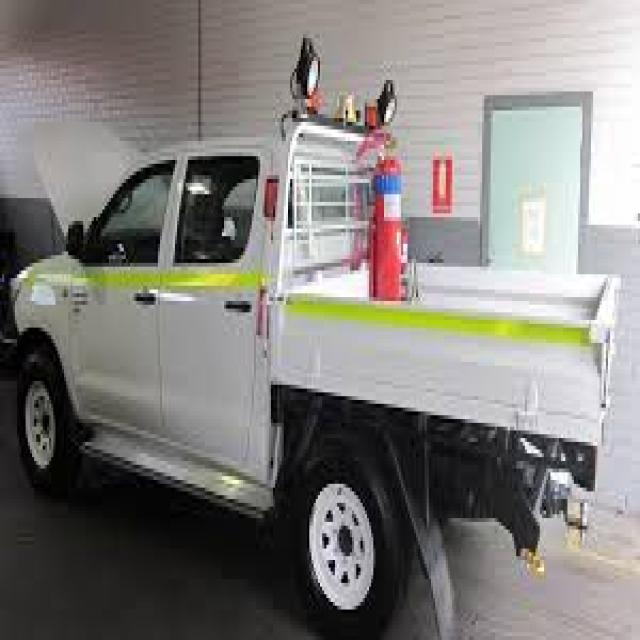light_vehicle: (8, 68, 638, 624)
